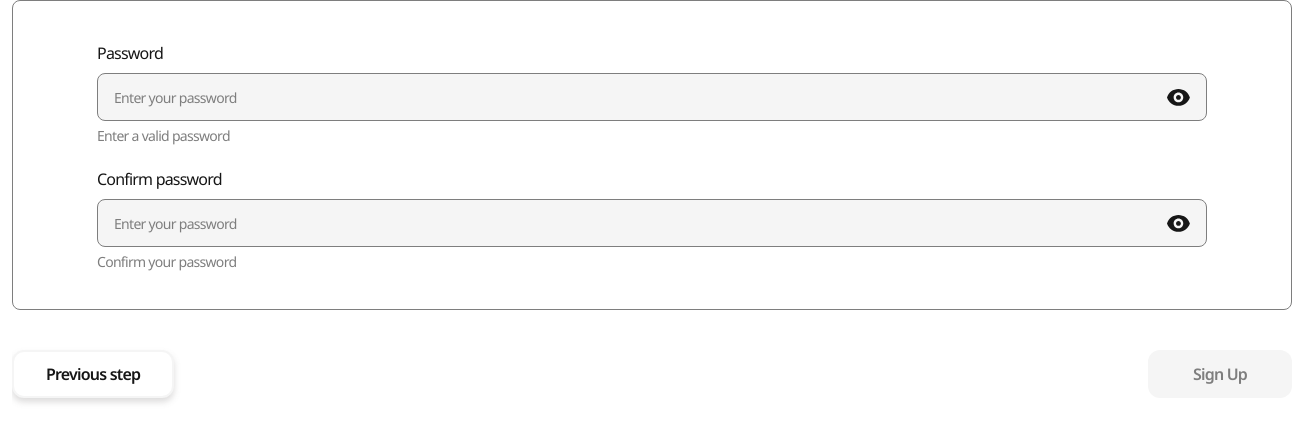
Test case: PasswordStep Integration Test › should show a validation error (zod) if the password is too weak
The width and height of the screenshot is (1304, 421).
Type "weak" into the password field with placeholder "Enter your password".
click(632, 97); type("weak")  # box top-left (114, 88), bottom-right (1151, 106)
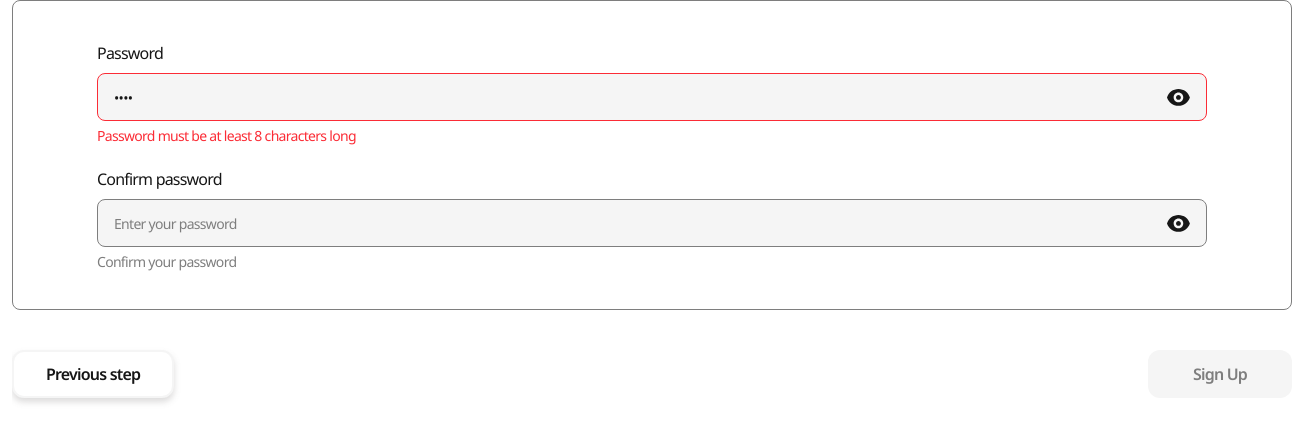
Expected: the text "Password must be at least 8 characters long" is shown, top-left (97, 129), bottom-right (356, 143)
